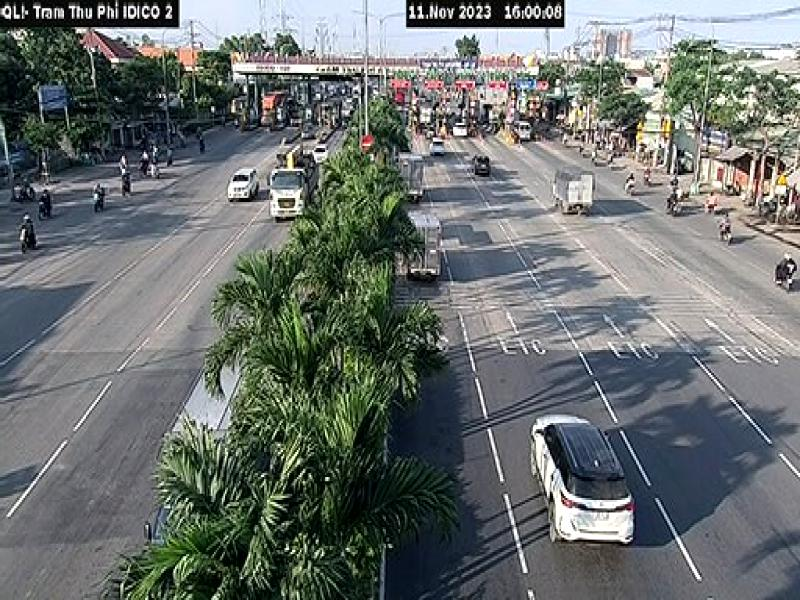truck: (551, 167, 598, 215)
